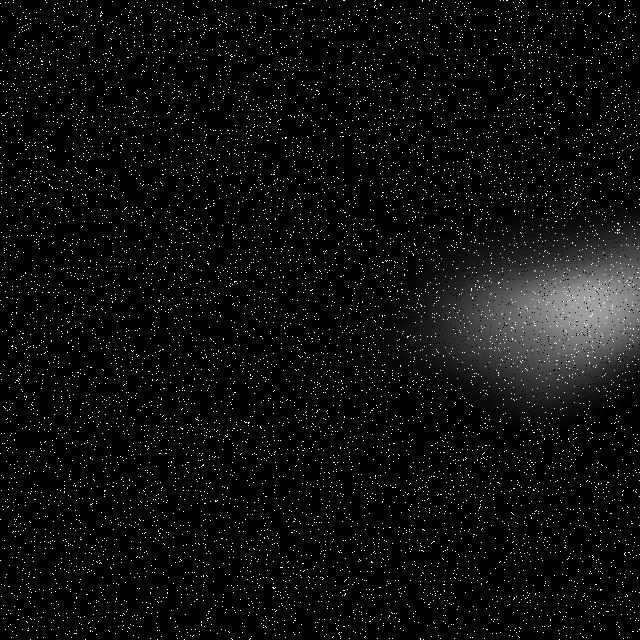person: (268, 177, 640, 521)
